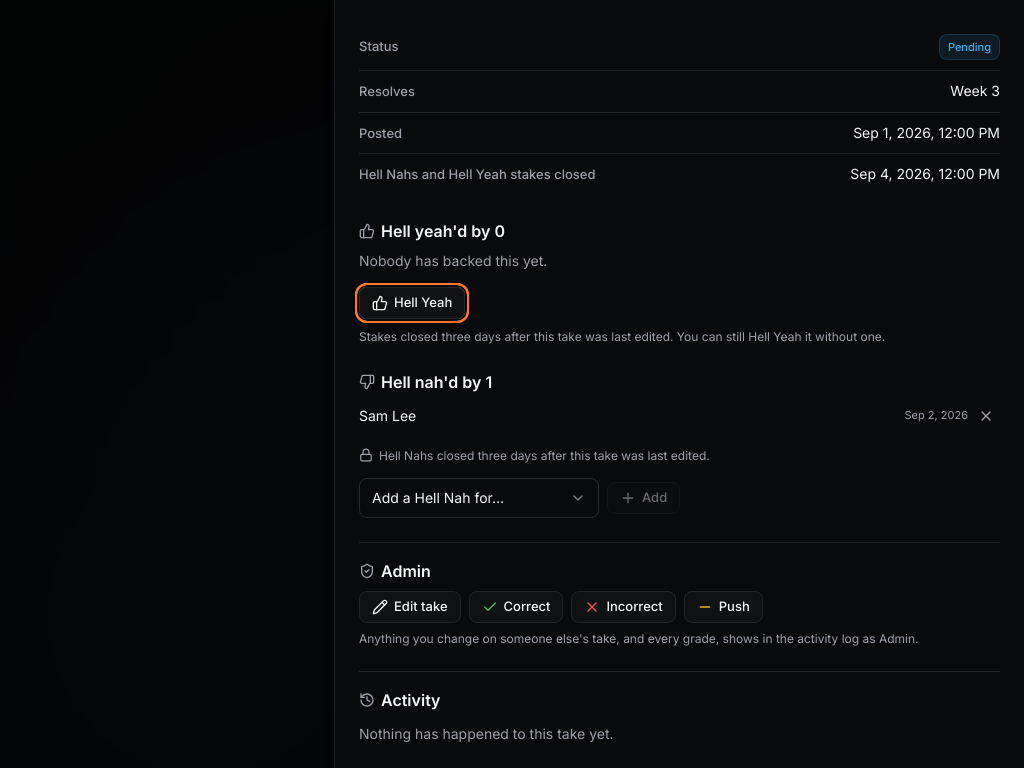
it: TakeDetailSheet, admin › will not save a form nobody changed
This screenshot has width=1024, height=768.
(page scrolled)
Click the button "Edit take". click: coordinates (410, 607)
box: 359,591 -> 460,623
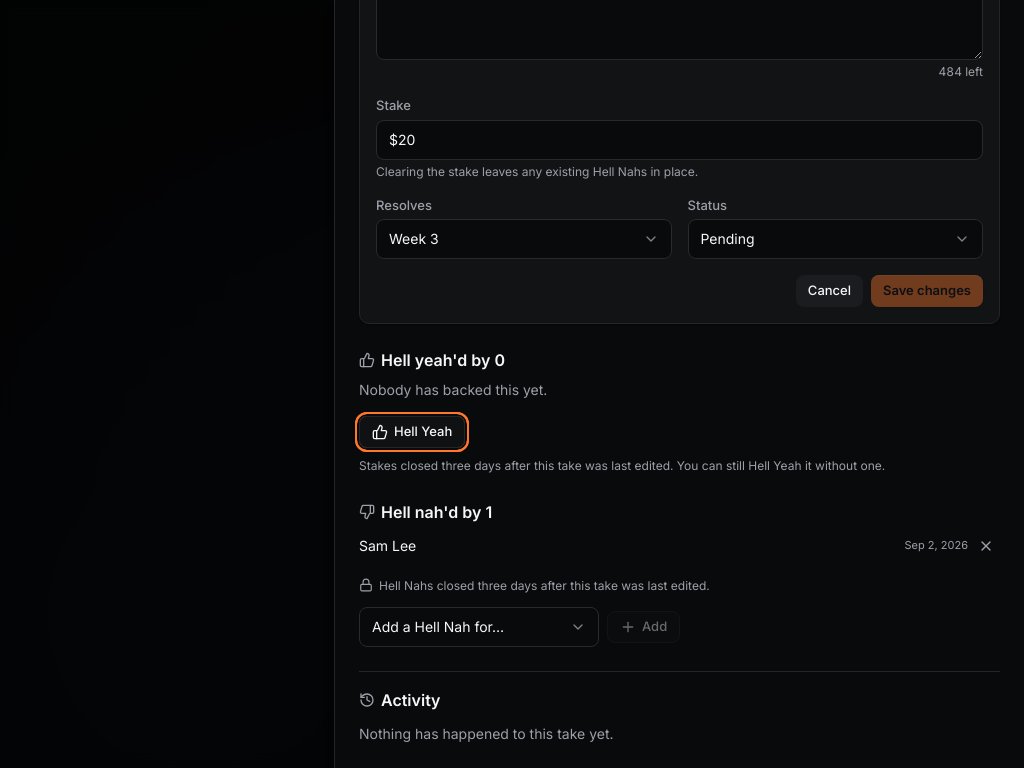
Result: the button "Save changes" is disabled at 871,275 -> 983,307
